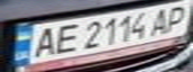1: (115, 11, 136, 43), (100, 16, 121, 46)
2: (78, 18, 106, 51)
4: (127, 8, 154, 41)
A: (24, 25, 63, 60), (145, 6, 175, 36)
E: (48, 21, 84, 56)
P: (160, 2, 193, 34)
